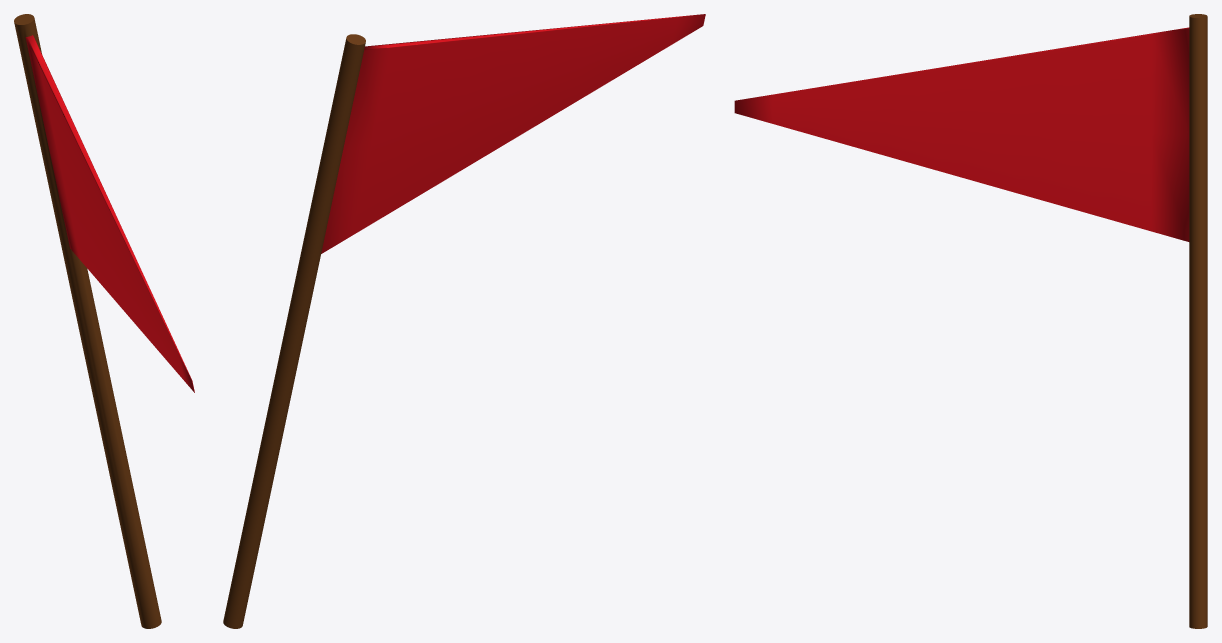
File: Gorro2.fbx
The picture shows the model from 3 angles, left to right: view 1: azimuth 30°, elevation 25°; view 2: azimuth 150°, elevation 25°; view 3: azimuth 270°, elevation 25°; orthographic projection. The views are drawn at different scales.
Visible parts, largest first — view 1: Cylinder; view 2: Cylinder; view 3: Cylinder.
Boxes of the visible parts, bbox=[...] form: Cylinder: bbox=[14, 14, 194, 628]; Cylinder: bbox=[223, 14, 705, 628]; Cylinder: bbox=[734, 14, 1207, 628].
Size of the model in its own units: 37 by 96.94 by 74.23.
